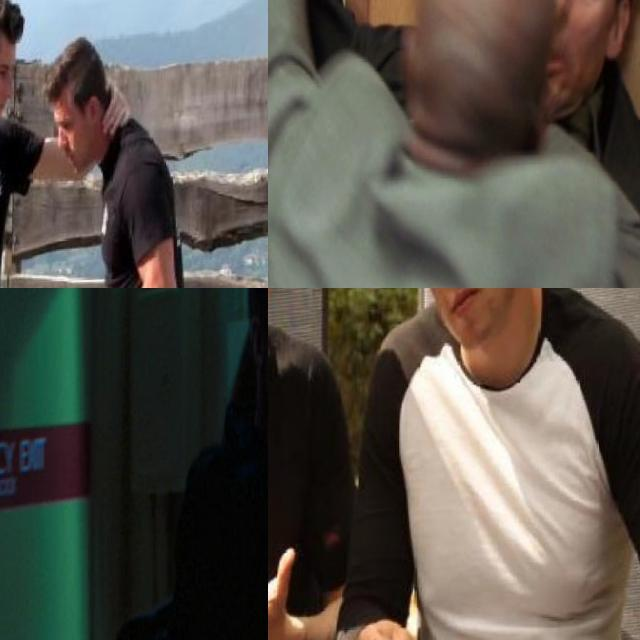-: (268, 379, 300, 575)
gun-knife-thesis - v11 Yolov5 augmented: (268, 0, 340, 79)
